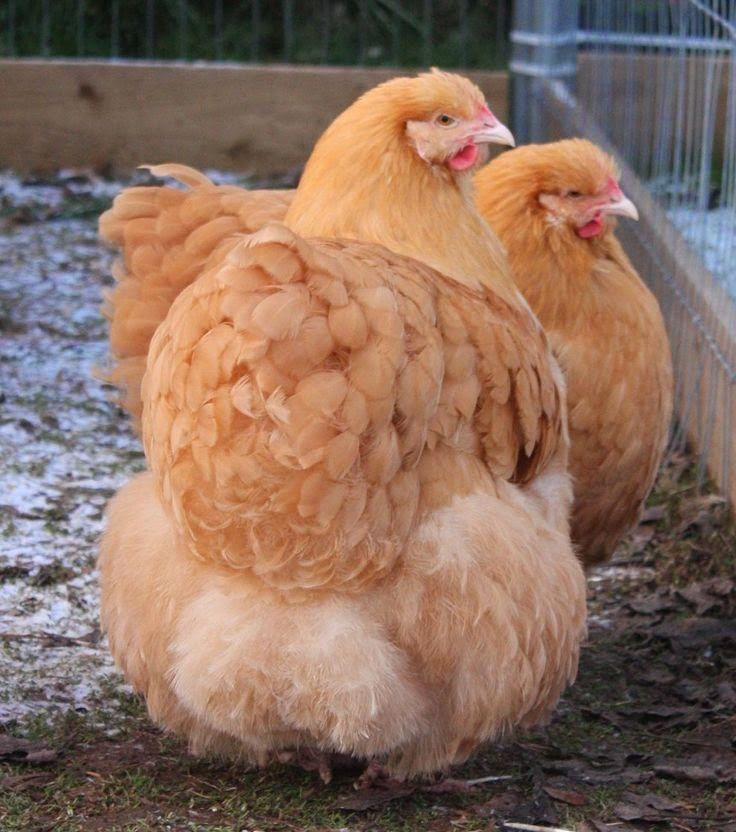buff: (269, 59, 521, 262), (517, 133, 642, 276)
